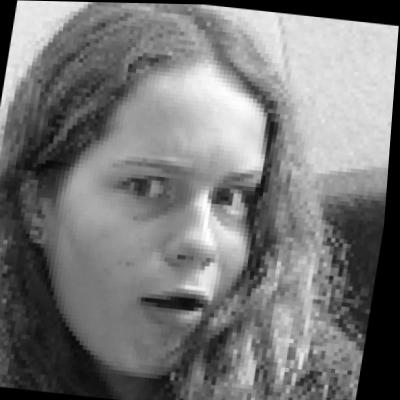surprise: (33, 48, 285, 373)
